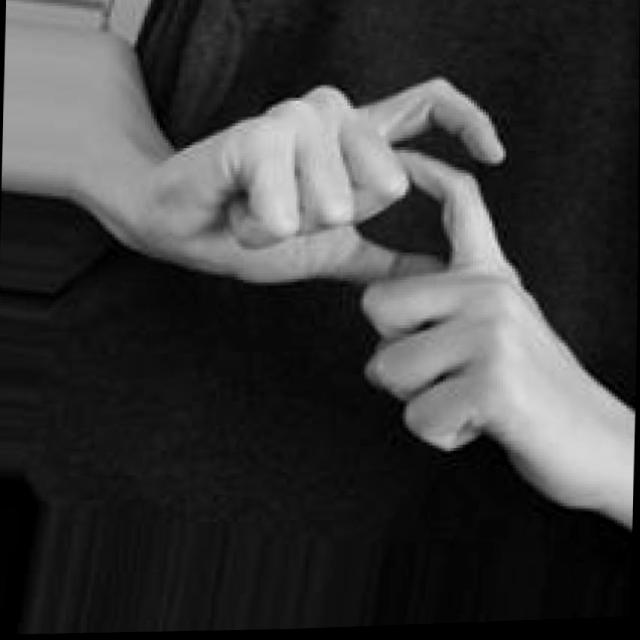G: (132, 64, 613, 525)
